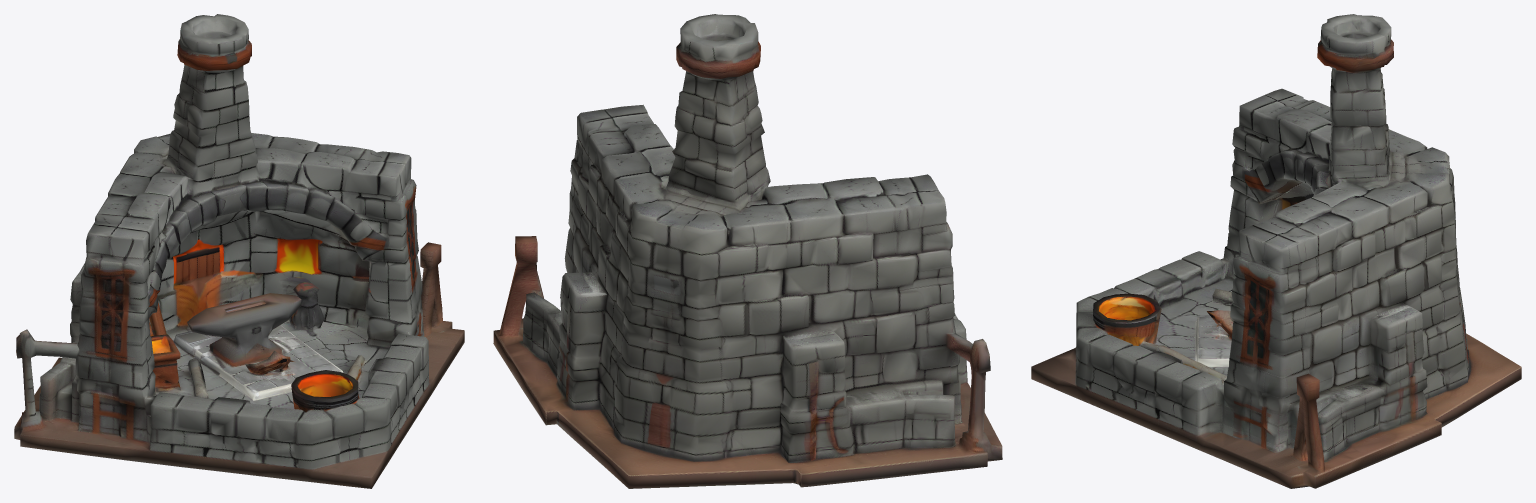
File: blacksmith.glb
The picture shows the model from 3 angles, left to right: view 1: azimuth 30°, elevation 25°; view 2: azimuth 150°, elevation 25°; view 3: azimuth 270°, elevation 25°; orthographic projection. The views are drawn at different scales.
Visible parts, largest first — view 1: Mesh_0; view 2: Mesh_0; view 3: Mesh_0.
Boxes of the visible parts, left/top/right/bottom form: Mesh_0: left=14, top=14, right=464, bottom=488; Mesh_0: left=493, top=14, right=1002, bottom=488; Mesh_0: left=1031, top=14, right=1521, bottom=488.
Bounding box in the file's own units: 2.4 × 1.8 × 2.27.
1 material, 1 textured.
